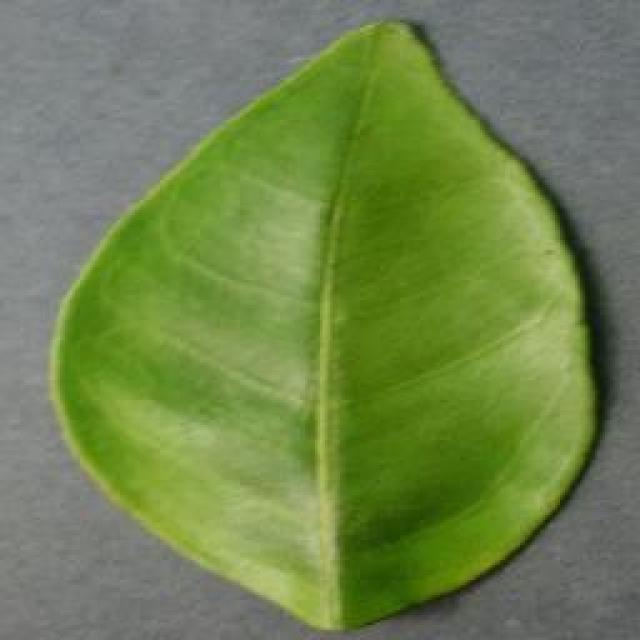Orange_Haunglongbing_Citrus_greening: (140, 126, 561, 606)
